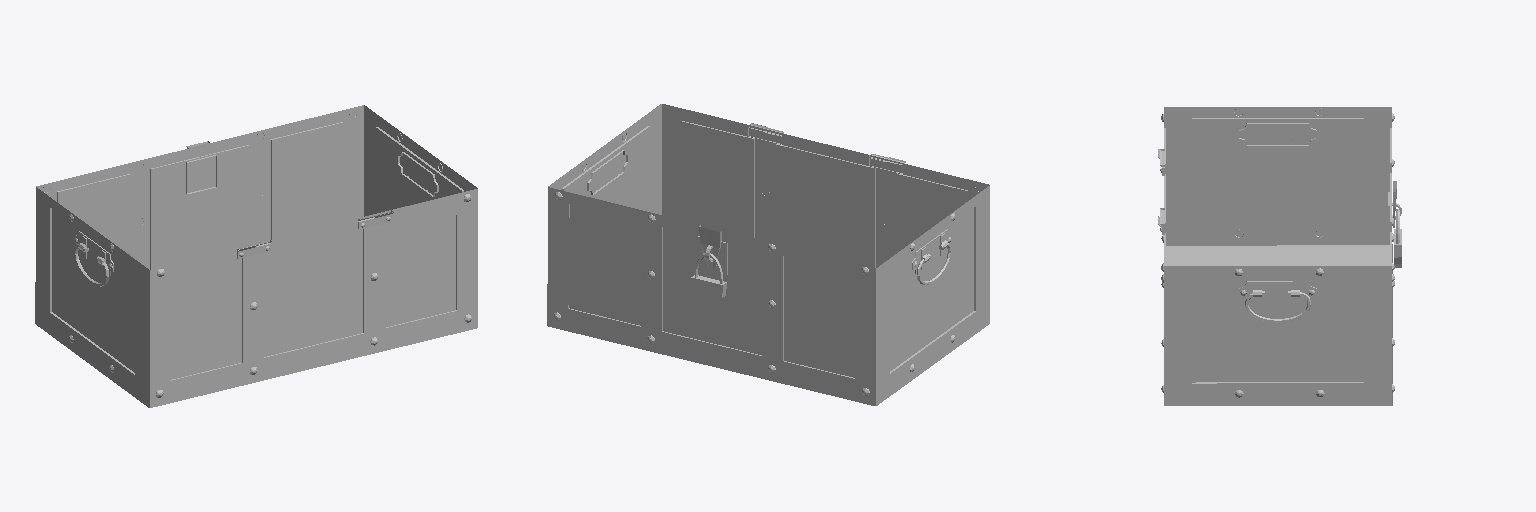
The model's file is chest2.obj.
3 renders of one model, left to right at view 1: azimuth 30°, elevation 25°; view 2: azimuth 150°, elevation 25°; view 3: azimuth 270°, elevation 25°, orthographic.
Parts seen in each view (by area): view 1: chest2.001; view 2: chest2.001; view 3: chest2.001.
Part boxes in pixels (bbox=[...]): chest2.001: bbox=[35, 105, 477, 407]; chest2.001: bbox=[547, 104, 989, 405]; chest2.001: bbox=[1158, 107, 1401, 405].
Size of the model in its own units: 1.79 by 0.7159 by 1.13.